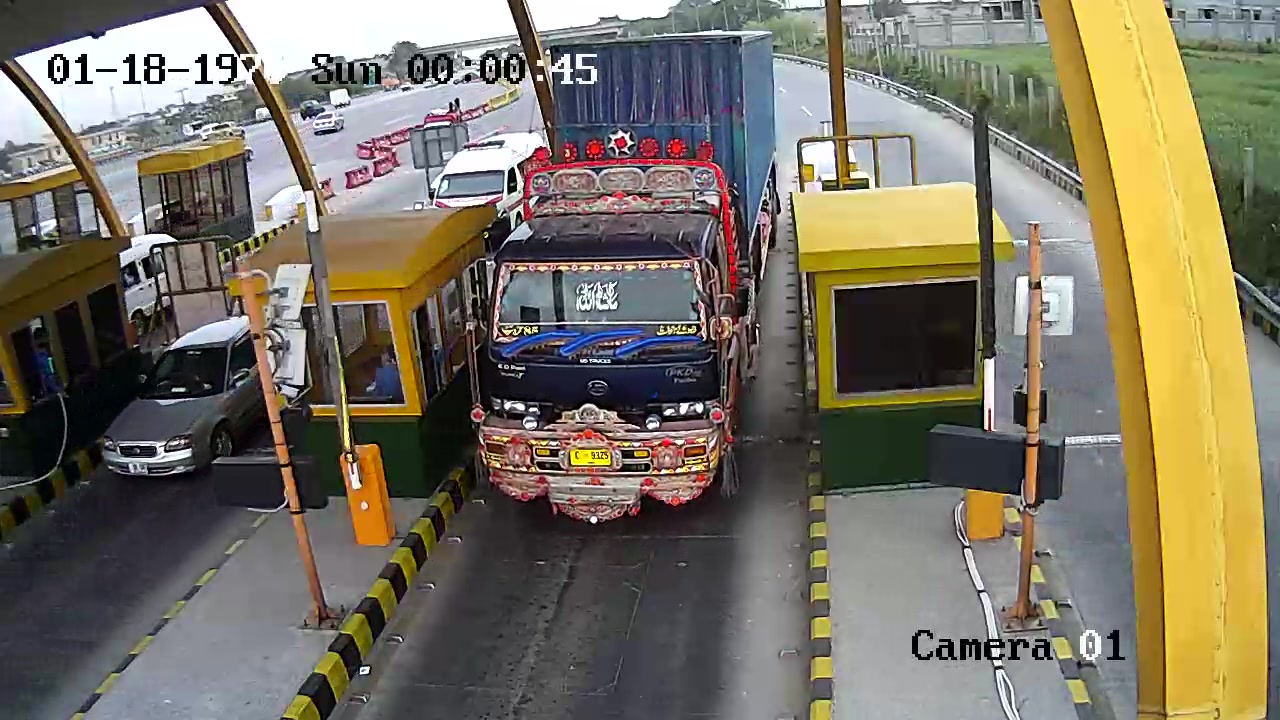F6: (456, 27, 776, 532)
